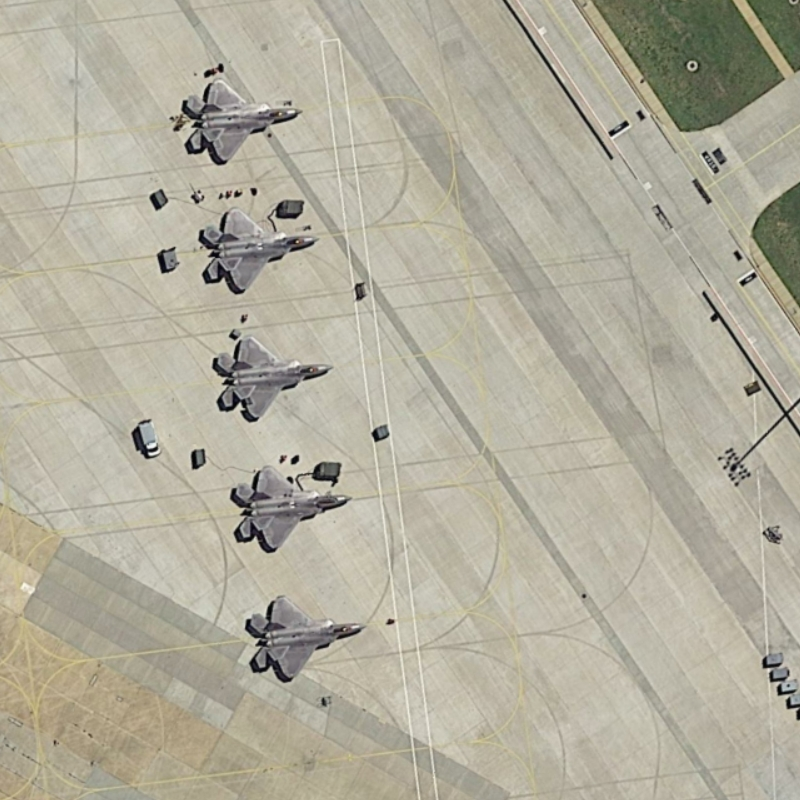A15: (176, 67, 308, 172), (236, 587, 371, 688), (227, 461, 358, 558), (203, 330, 336, 425), (194, 205, 325, 299)
